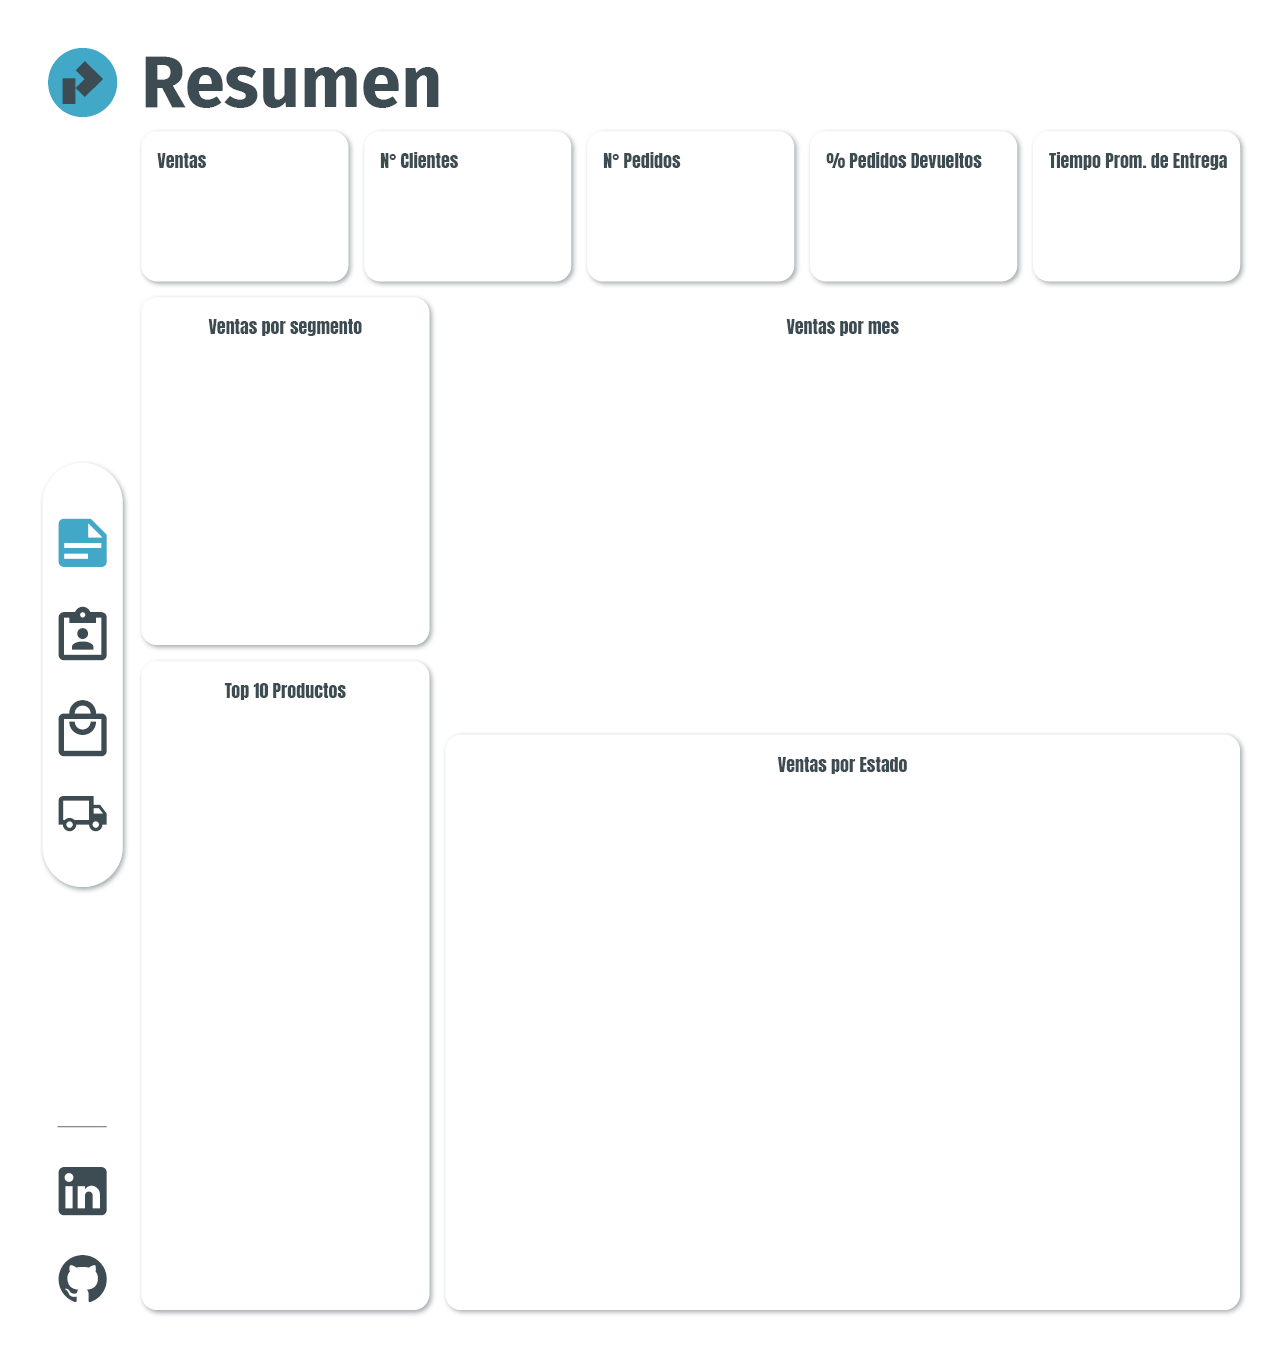

The dashboard page shown, as its layout file describes it:
{"tool":"powerbi","page":{"name":"Resumen","canvas":[1280,1350],"ordinal":1},"visuals":[{"type":"actionButton","box":[53.3,510,58.9,62.2],"z":0},{"type":"actionButton","box":[53.3,604.4,58.9,62.2],"z":1000},{"type":"actionButton","box":[53.3,695.6,58.9,62.2],"z":2000},{"type":"actionButton","box":[53.3,778.9,58.9,62.2],"z":3000},{"type":"card","fields":{"Values":["Medidas.VENTAS"]},"box":[140,127.5,209.2,152.5],"z":4000},{"type":"card","fields":{"Values":["Medidas.CLIENTES UNICOS"]},"box":[364.2,127.5,209.2,152.5],"z":5000},{"type":"card","fields":{"Values":["Medidas.TRANSACCIONES"]},"box":[585,127.5,209.2,152.5],"z":6000},{"type":"card","fields":{"Values":["Medidas.DEVOLUCIONES %"]},"box":[810,127.5,209.2,152.5],"z":7000},{"type":"card","fields":{"Values":["Medidas.TIEMPO PROMEDIO DE ENTREGA"]},"box":[1033.8,127.5,208.8,152.5],"z":8000},{"type":"treemap","fields":{"Values":["Medidas.VENTAS"],"Group":["dimCliente.Segment"]},"box":[140,332.2,290,312.2],"z":9000},{"type":"barChart","fields":{"Y":["Medidas.VENTAS"],"Category":["dimProducto.Name"]},"box":[140,696.7,290,611.1],"z":10000},{"type":"shapeMap","fields":{"Category":["dimRegion.State"],"Value":["Medidas.VENTAS"]},"box":[443.8,725.5,797.2,582],"z":11000},{"type":"areaChart","fields":{"Category":["dimCalendario.Mes Nombre"],"Y":["Medidas.VENTAS"]},"box":[444.3,332.9,797.1,392.9],"z":12000},{"type":"slicer","fields":{"Values":["dimCalendario.Año"]},"box":[1150,301.2,91.2,62.5],"z":13000}]}

Visuals, with their boxes in screenshot pixels (x1, y1, x2, y2), scaled from the page's 1280x1350 canvas onto the 1280x1350 screenshot:
actionButton: <box>53,510,112,572</box>
actionButton: <box>53,604,112,667</box>
actionButton: <box>53,696,112,758</box>
actionButton: <box>53,779,112,841</box>
card - Medidas.VENTAS: <box>140,128,349,280</box>
card - Medidas.CLIENTES UNICOS: <box>364,128,573,280</box>
card - Medidas.TRANSACCIONES: <box>585,128,794,280</box>
card - Medidas.DEVOLUCIONES %: <box>810,128,1019,280</box>
card - Medidas.TIEMPO PROMEDIO DE ENTREGA: <box>1034,128,1243,280</box>
treemap - Medidas.VENTAS x dimCliente.Segment: <box>140,332,430,644</box>
barChart - Medidas.VENTAS x dimProducto.Name: <box>140,697,430,1308</box>
shapeMap - dimRegion.State x Medidas.VENTAS: <box>444,726,1241,1308</box>
areaChart - dimCalendario.Mes Nombre x Medidas.VENTAS: <box>444,333,1241,726</box>
slicer - dimCalendario.Año: <box>1150,301,1241,364</box>
